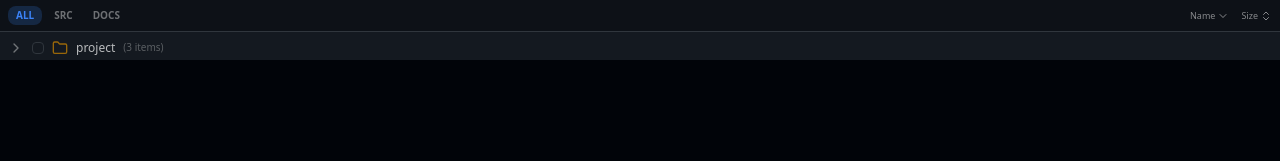
Test: FileTree Indexing Scenarios › Initial render with various structures › should render multiple sibling directories
The width and height of the screenshot is (1280, 161).
Expected: the text "project" is shown, [76,38,115,56]
# Expand project to see all track folders
Click the button with test id "expand-icon": (16, 48) [6,38,26,58]
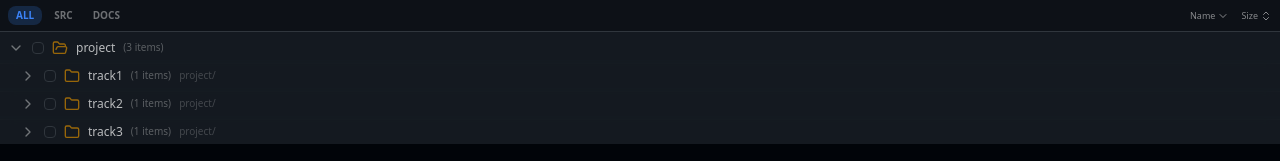
Expected: the text "track1" is shown, [88,66,123,84]
Expected: the text "track2" is shown, [88,94,123,112]
Expected: the text "track3" is shown, [88,122,123,140]
